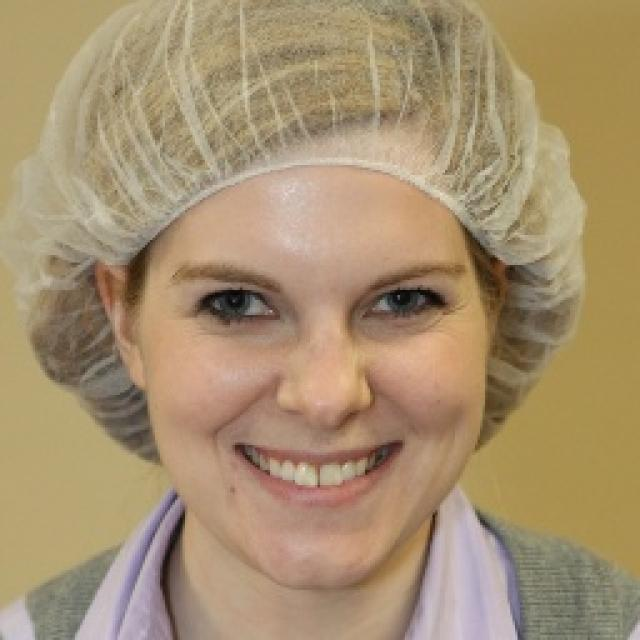earlobe: (93, 258, 148, 391)
